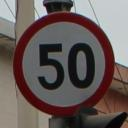speed_limit_50: (12, 11, 115, 118)
